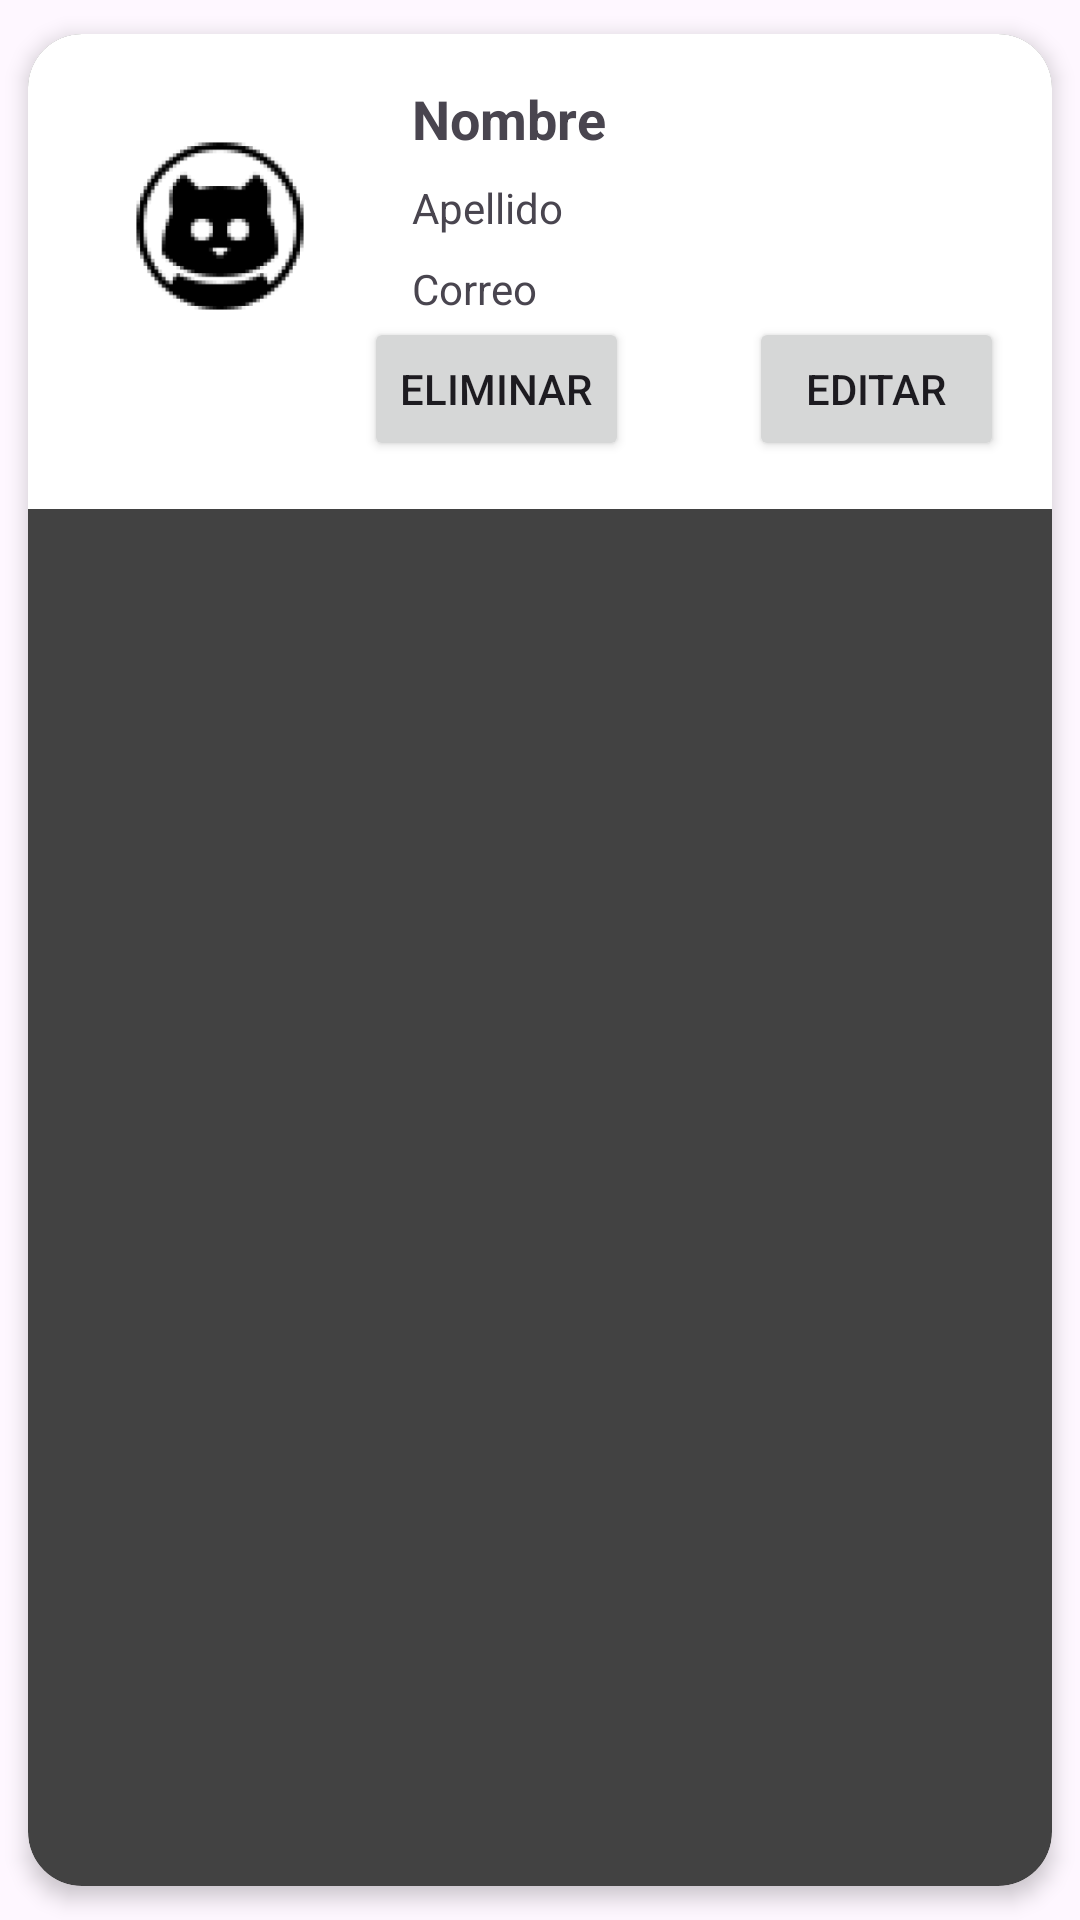

Icons on this 1080 x 1920 Android screen, each with its box as (x1, y1, x2, y2):
perfil cat: (136, 142, 304, 310)
